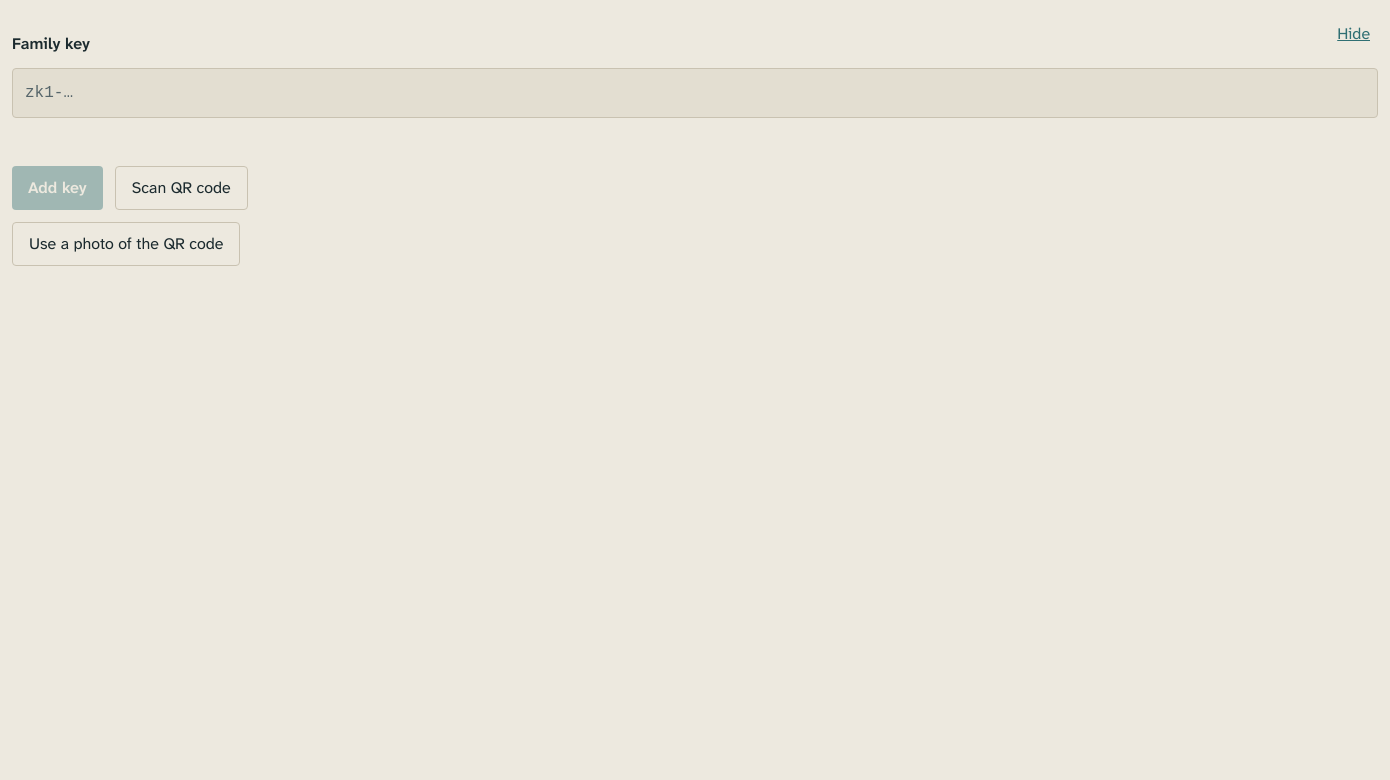
Test case: KeyImport success panel › takes focus and shows the fingerprint, clearing the field
The image size is (1390, 780).
In the field labelled "Family key": (695, 93) [12,68,1378,118], type "zk1-000102030405060708090a0b0c0d0e0f101112131415161718191a1b1c1d1e1f-2418"
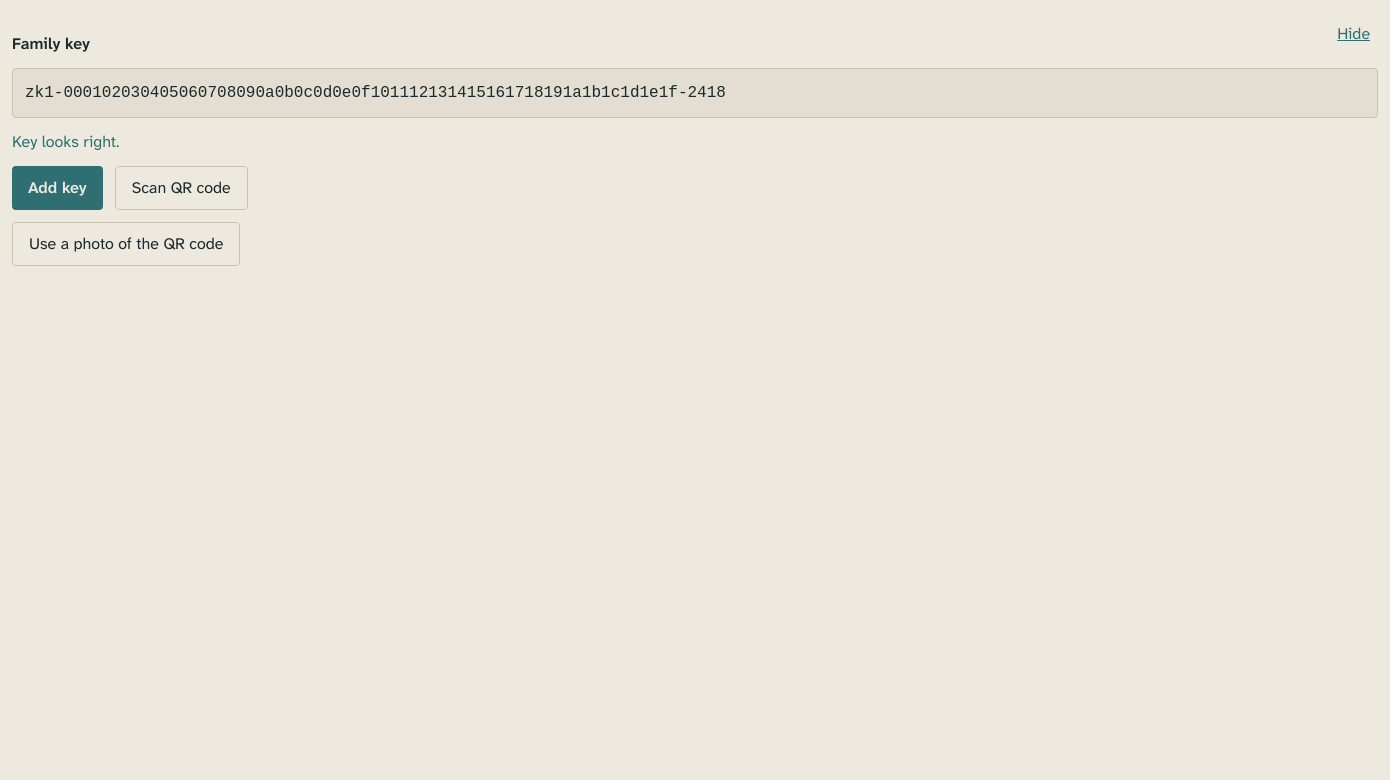
Click the button "Add key": (57, 188) [12,166,103,210]
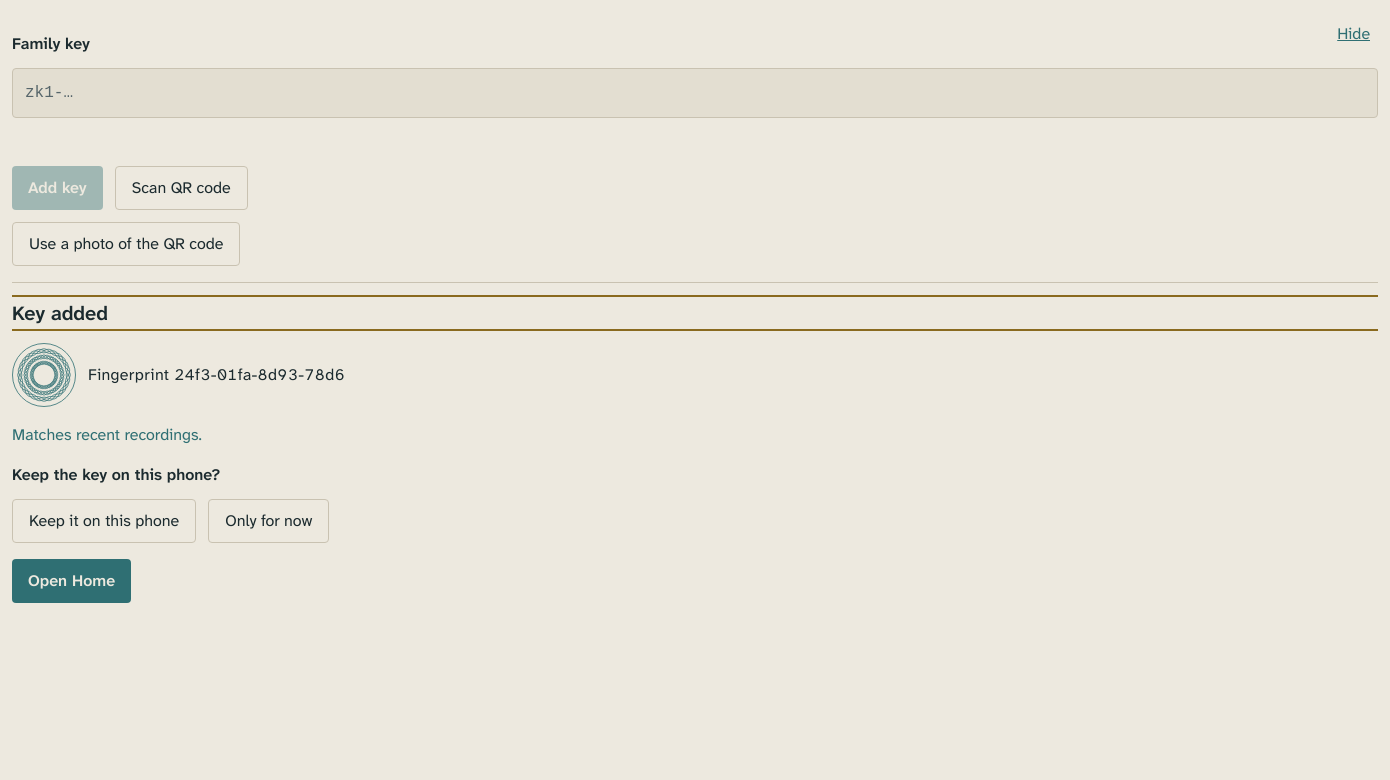
Check: the text "zk1-" is not shown
Check: the text "Matches recent recordings." is shown, box [12,424,202,445]
